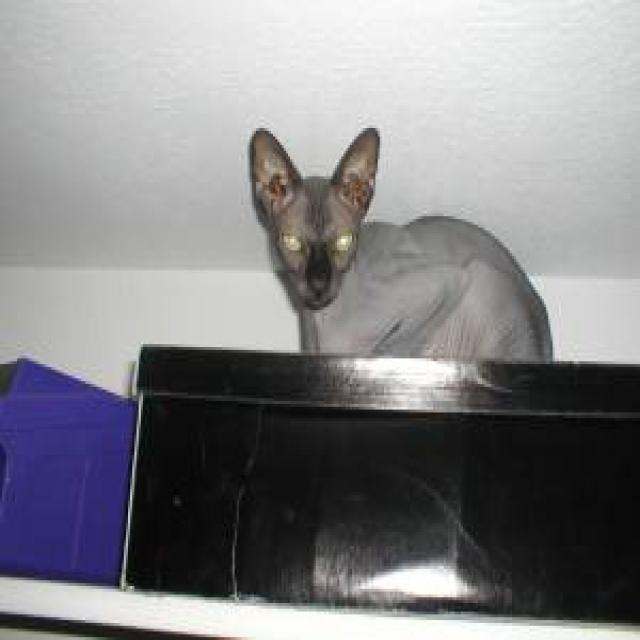Sphynx: (244, 120, 381, 315)
